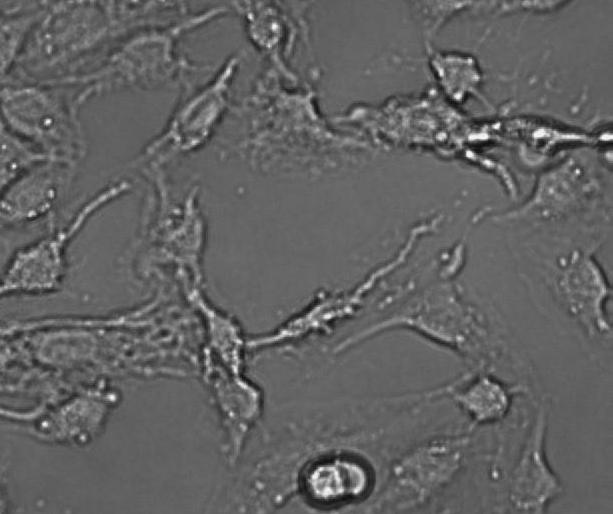Dead: (294, 448, 378, 510)
